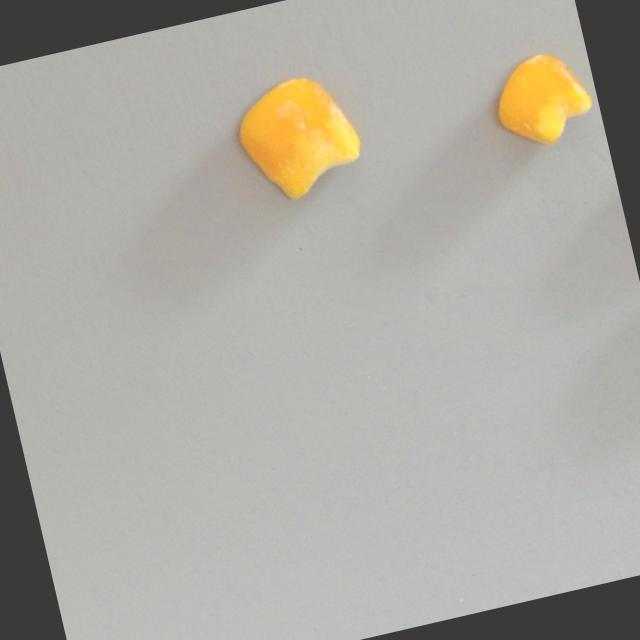pelicula: (228, 65, 371, 210), (485, 43, 600, 155)
